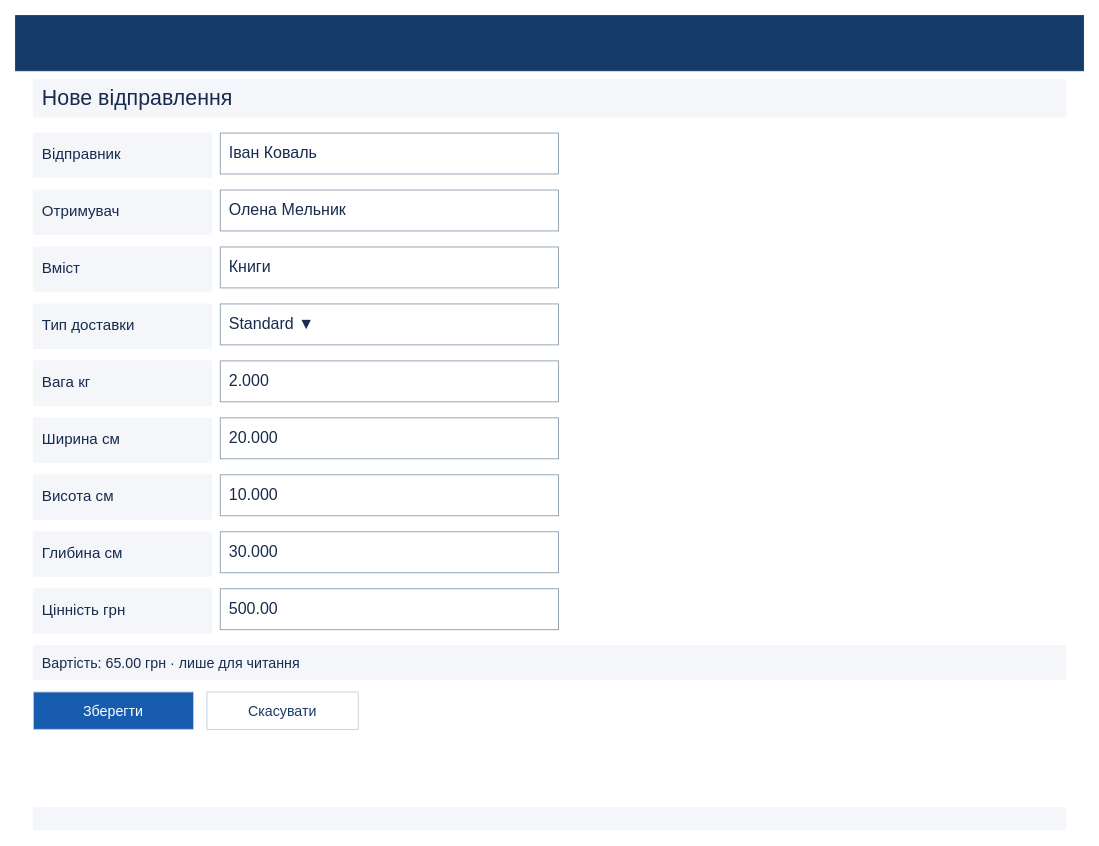
Some shapes in this 1099 by 846 pixel diagram are drawn without their labels. The box of each missing label's shape, as (x1, y1, x2, y2) in pixels:
PostService — Облік відправлень: (15, 15, 1084, 71)
Мокап · web · Широкий екран 1200 px: (32, 807, 1066, 830)
